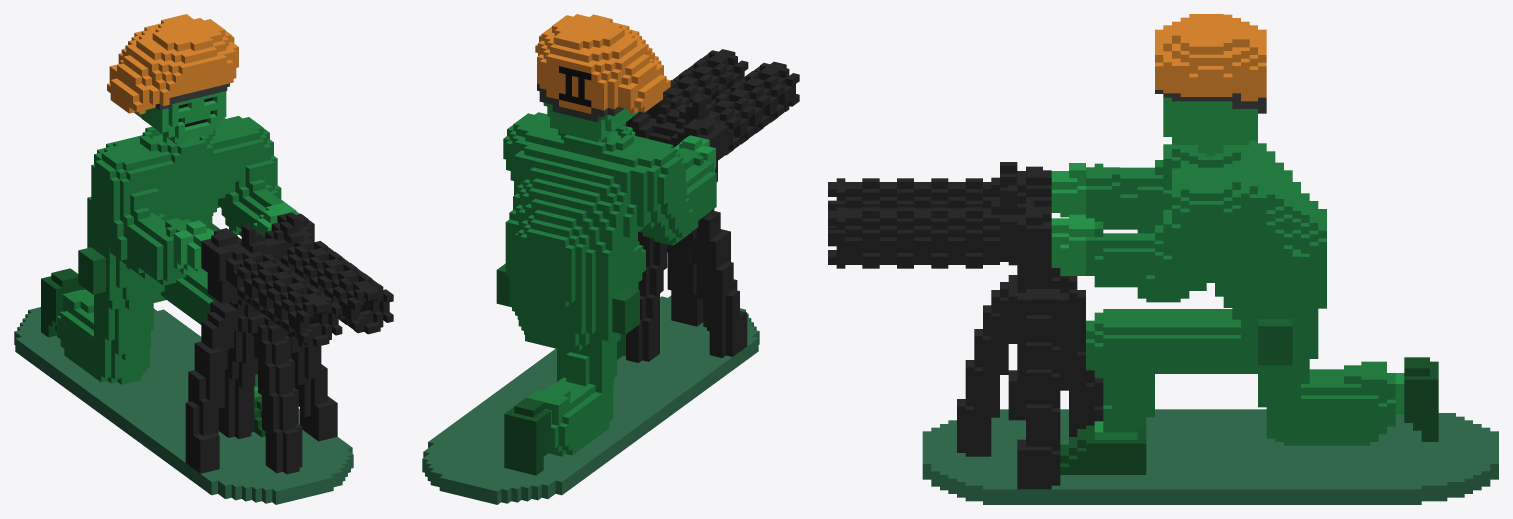
The model's file is machinegun_soldier_LVL2_4.0.obj.
The picture shows the model from 3 angles, left to right: view 1: azimuth 30°, elevation 25°; view 2: azimuth 150°, elevation 25°; view 3: azimuth 270°, elevation 25°; orthographic projection. The views are drawn at different scales.
Size of the model in its own units: 2.5 by 5.6 by 7.8.
Materials: 1 (1 with a texture image).
